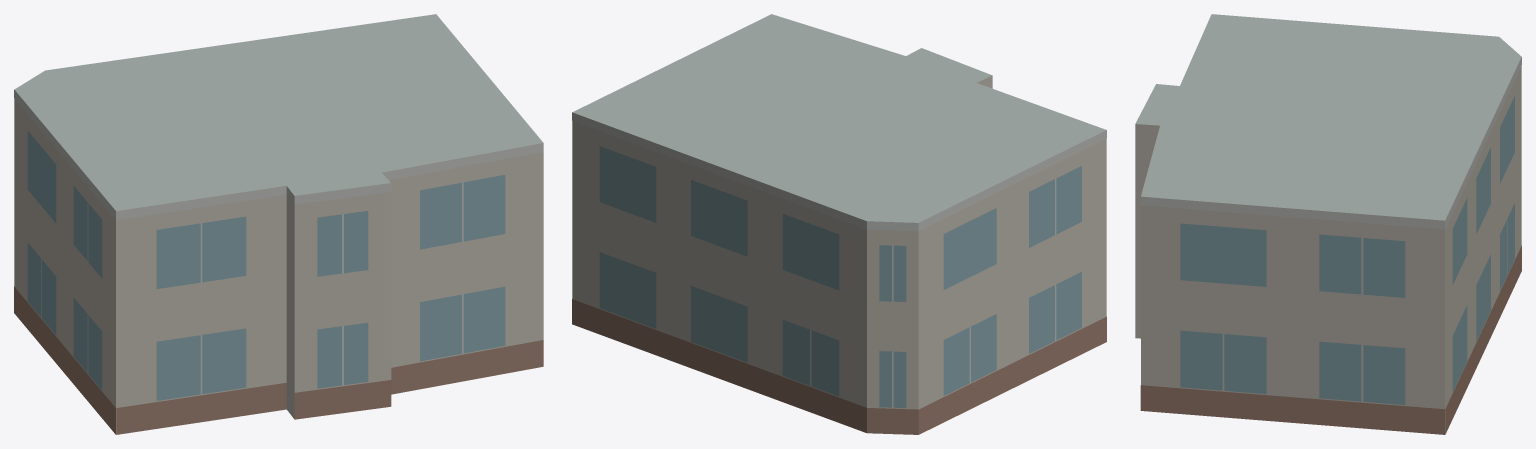
File: survey-upis-32654061.glb
3 renders of one model, left to right at view 1: azimuth 30°, elevation 25°; view 2: azimuth 150°, elevation 25°; view 3: azimuth 270°, elevation 25°, orthographic. The views are drawn at different scales.
Parts seen in each view (by area): view 1: survey-upis-32654061.tmp; view 2: survey-upis-32654061.tmp; view 3: survey-upis-32654061.tmp.
Part boxes in pixels (x1,y1,x2,y2): survey-upis-32654061.tmp: (14,14,543,434); survey-upis-32654061.tmp: (572,14,1106,434); survey-upis-32654061.tmp: (1135,14,1521,434).
Bounding box in the file's own units: 12.63 × 6.1 × 9.99.
